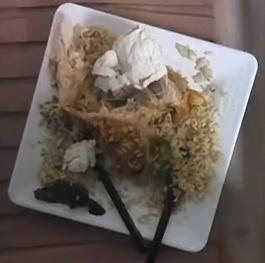rice_mix: (41, 26, 219, 216)
